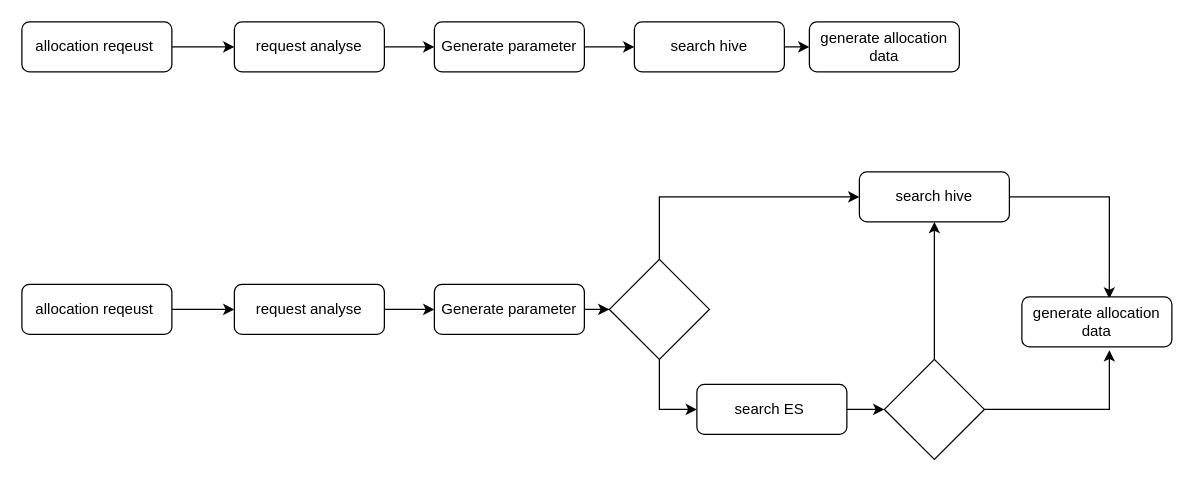
Image size: 1194x481. Some labels were removed from this diagram. Each missing label, with the centre of its shape:
"ES enabled" goes at (x=658, y=308).
"find result" goes at (x=933, y=408).
